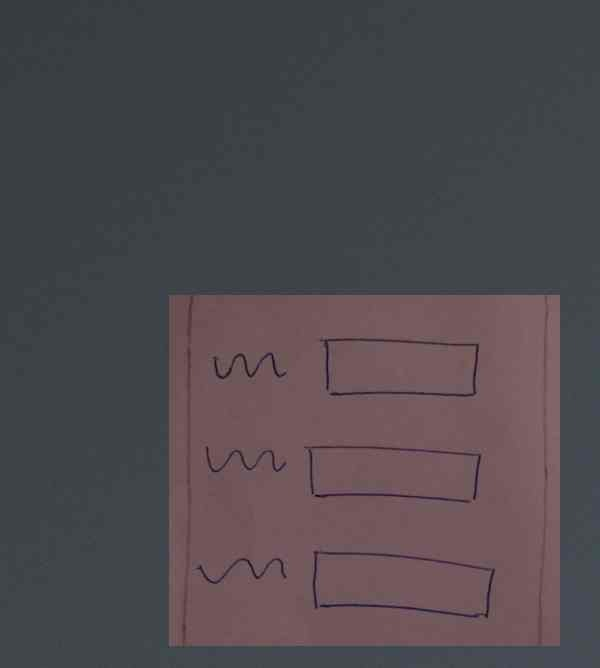text: (199, 437, 293, 480), (193, 552, 289, 591), (209, 345, 287, 388)
text_input: (310, 549, 500, 621), (315, 332, 483, 402), (301, 444, 483, 506)
